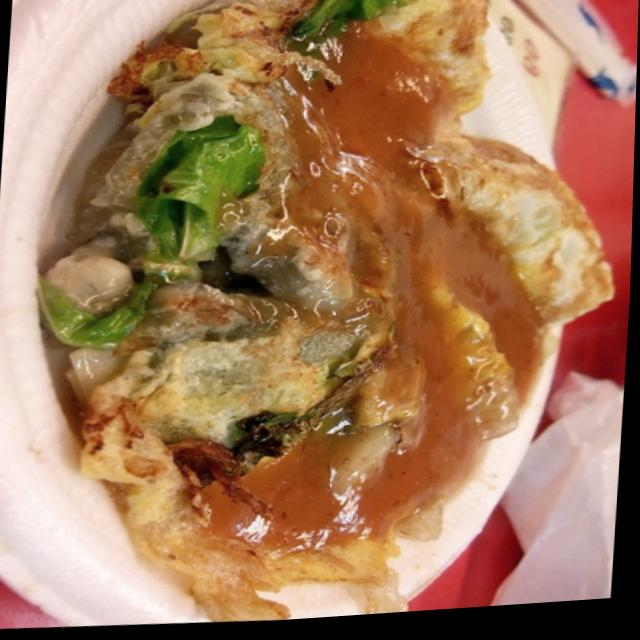熟制海鲜: (6, 0, 640, 638)
